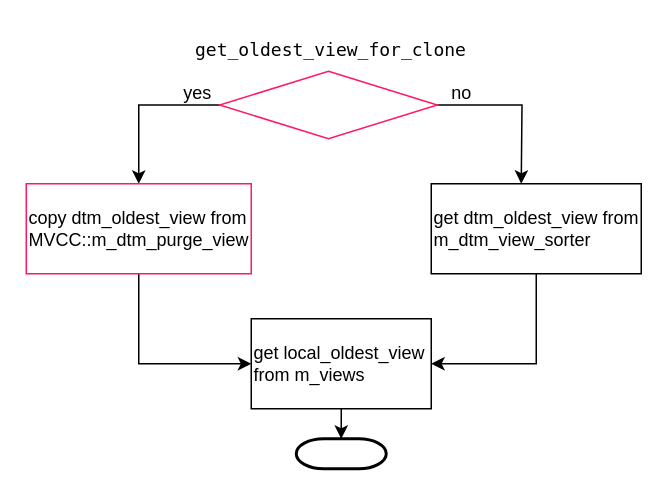
This 668x495 diagram has some shape labels left out. Each missing label, with the centre of its shape:
datanode is slave: [327,104]
exit: [340,453]
